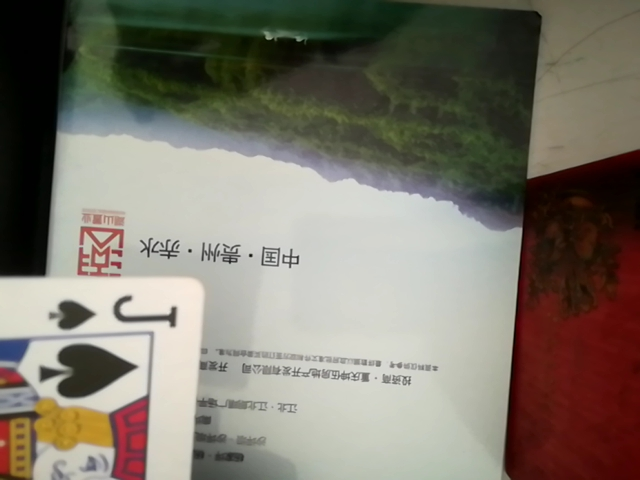ht j: (0, 264, 221, 479)
